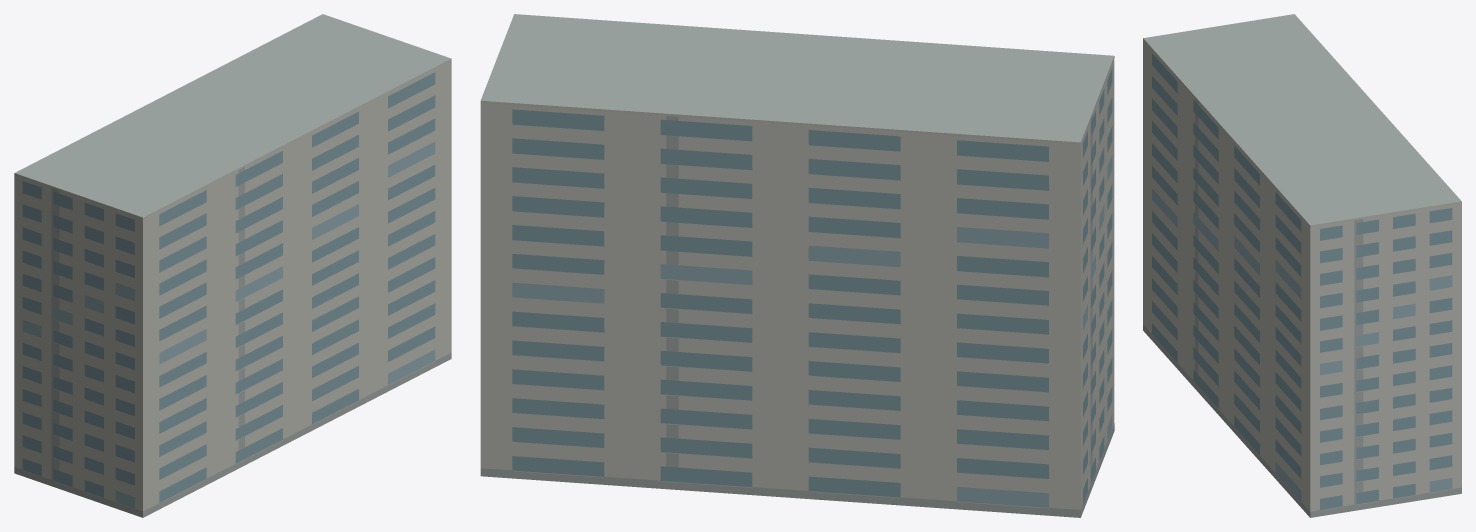
File: residential-ec386738-0f02-4f12-bbce-8f7a12badc3f.glb
3 renders of one model, left to right at view 1: azimuth 30°, elevation 25°; view 2: azimuth 150°, elevation 25°; view 3: azimuth 270°, elevation 25°, orthographic. The views are drawn at different scales.
Visible parts, largest first — view 1: residential-ec386738-0f02-4f12-bbce-8f7a12badc3f.tmp; view 2: residential-ec386738-0f02-4f12-bbce-8f7a12badc3f.tmp; view 3: residential-ec386738-0f02-4f12-bbce-8f7a12badc3f.tmp.
Part boxes in pixels (x1,y1,x2,y2): residential-ec386738-0f02-4f12-bbce-8f7a12badc3f.tmp: [14, 14, 451, 517]; residential-ec386738-0f02-4f12-bbce-8f7a12badc3f.tmp: [480, 14, 1114, 517]; residential-ec386738-0f02-4f12-bbce-8f7a12badc3f.tmp: [1143, 14, 1461, 517].
Size of the model in its own units: 62.05 by 40 by 39.52.
